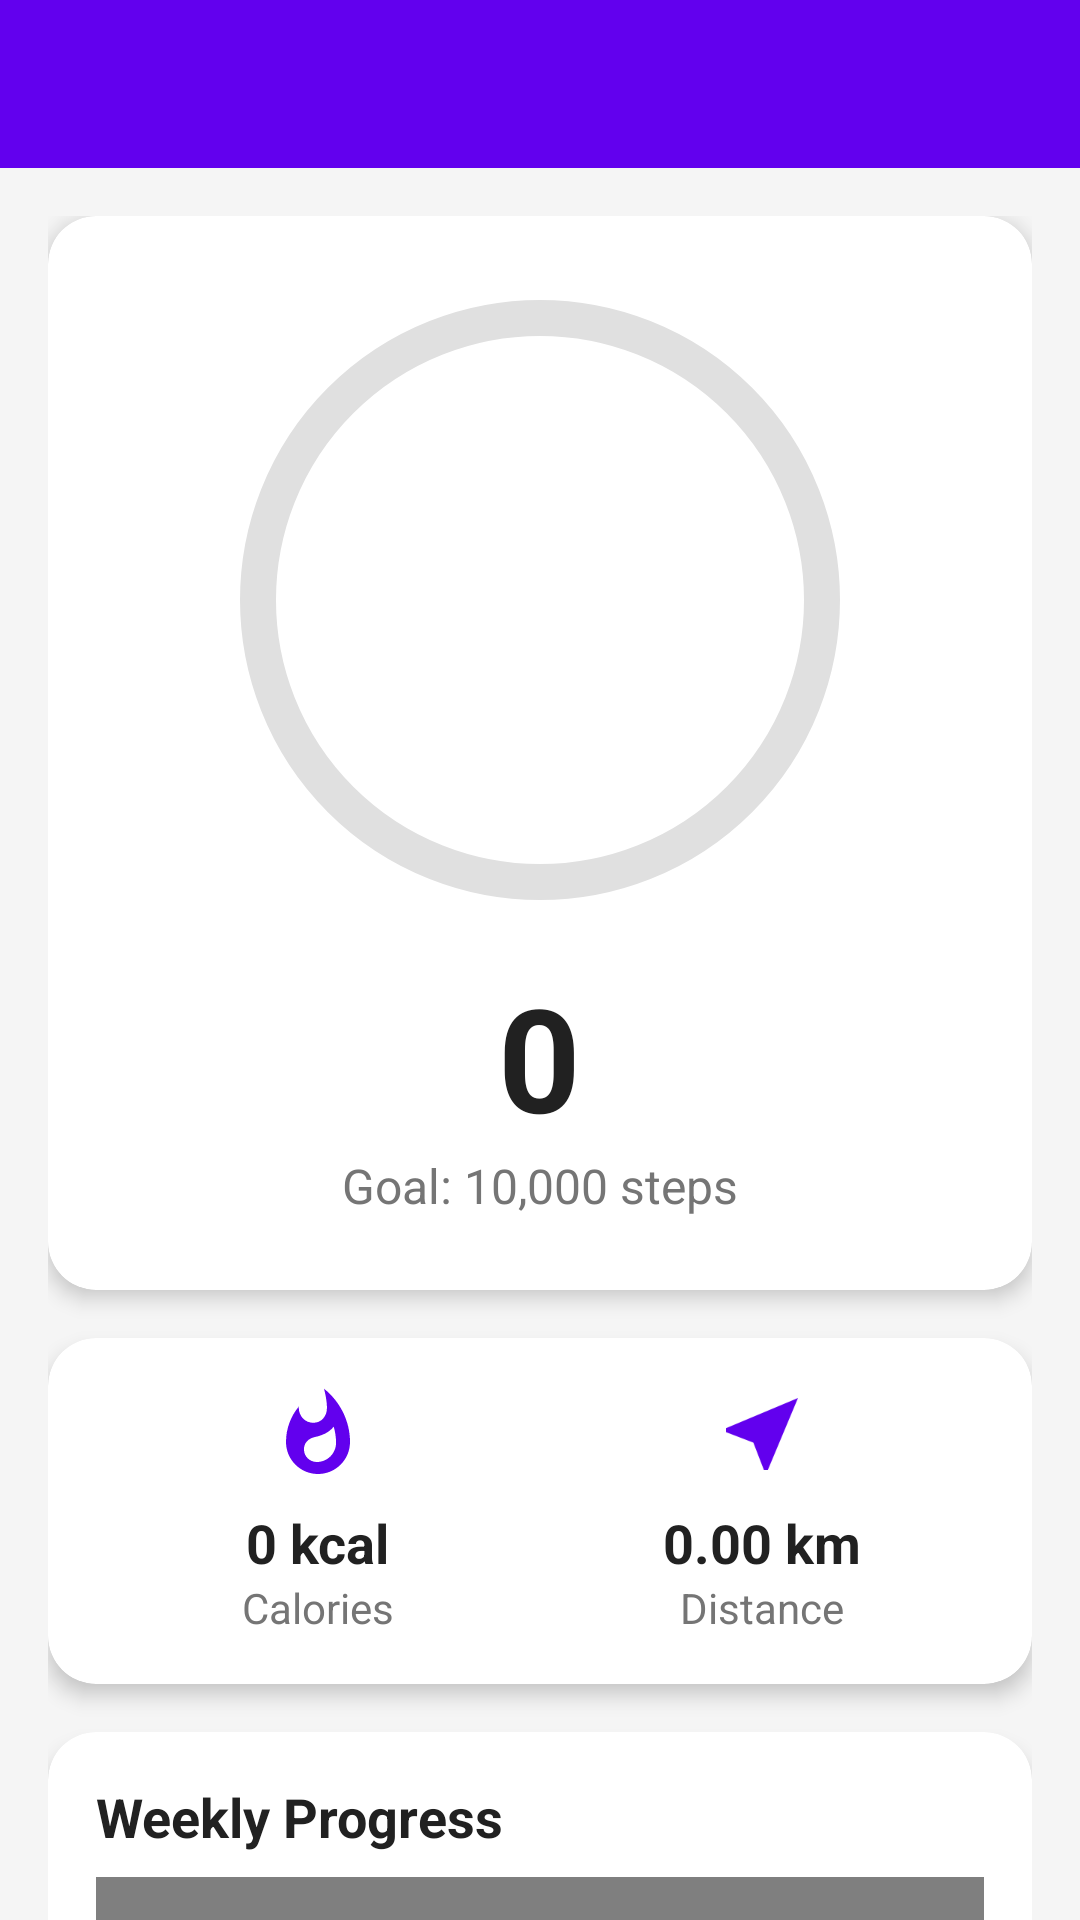

Where icons sit on this 1080 × 1920 app screen, as [left=x1, top=y1, right=x2, bottom=y2]:
fire: [left=286, top=1389, right=350, bottom=1474]
